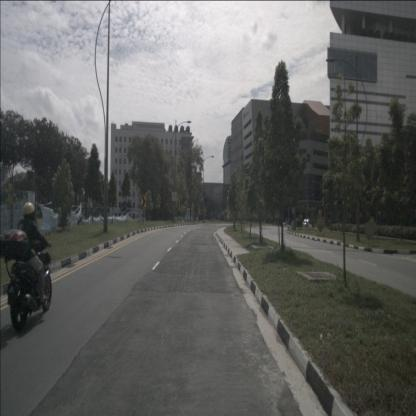vehicle-motorcycle: (0, 199, 53, 332)
